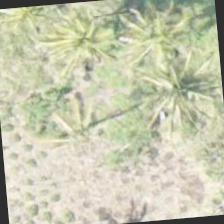Kelapa_Sawit: (32, 80, 130, 178), (127, 50, 223, 149), (38, 0, 136, 92), (120, 0, 218, 87)
